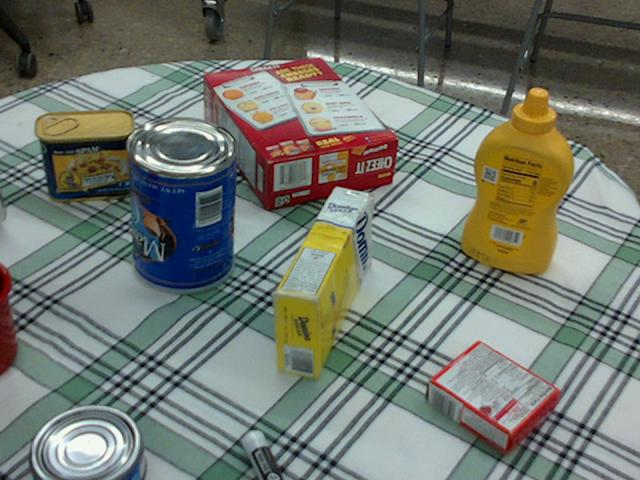cracker_box: (201, 58, 397, 204)
gelatin_box: (425, 341, 557, 455)
large_marker: (241, 431, 282, 479)
master_chef_can: (123, 116, 235, 293)
mug: (0, 261, 15, 368)
mustard_bottle: (460, 88, 572, 272)
potted_meat_can: (36, 109, 137, 202)
sugar_box: (272, 187, 371, 378)
tomato_soup_can: (0, 195, 3, 221)
tuna_fish_can: (25, 405, 142, 479)
